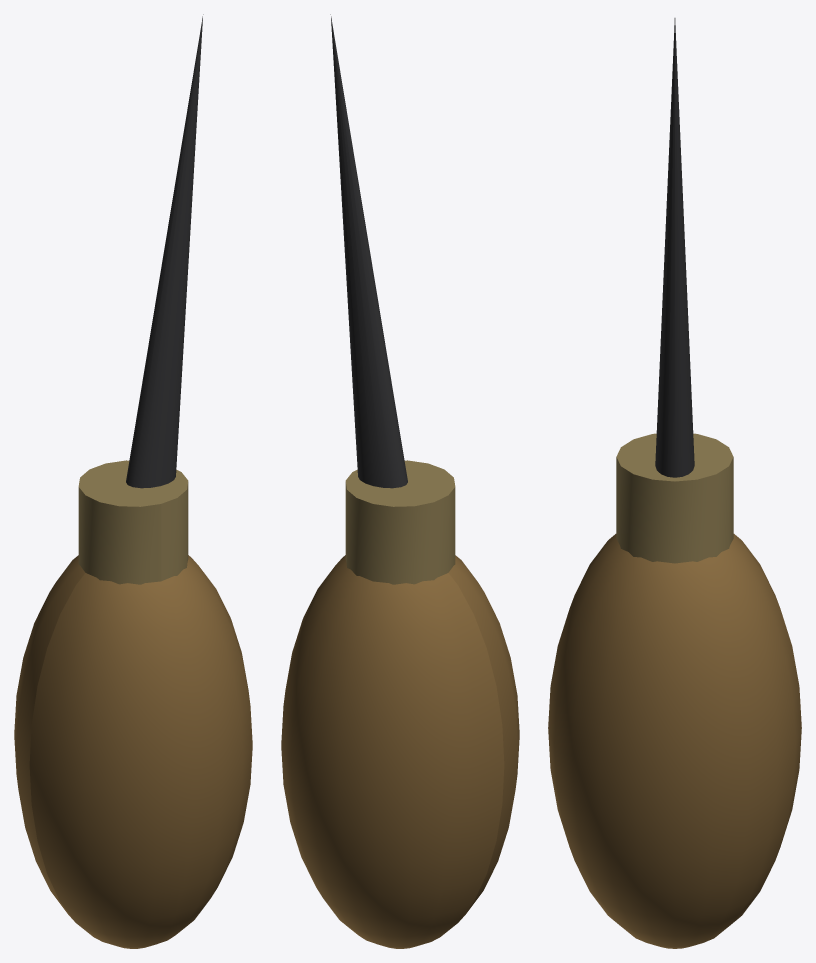
3 views of the same model, side by side, from view 1: azimuth 30°, elevation 25°; view 2: azimuth 150°, elevation 25°; view 3: azimuth 270°, elevation 25° (orthographic). The views are drawn at different scales.
Parts seen in each view (by area): view 1: OBJ-013 — DEMO NON_VALIDE; view 2: OBJ-013 — DEMO NON_VALIDE; view 3: OBJ-013 — DEMO NON_VALIDE.
Boxes of the visible parts, x1=… form: OBJ-013 — DEMO NON_VALIDE: x1=14, y1=14, x2=252, y2=948; OBJ-013 — DEMO NON_VALIDE: x1=281, y1=14, x2=519, y2=948; OBJ-013 — DEMO NON_VALIDE: x1=548, y1=18, x2=801, y2=948.
Size of the model in its own units: 0.4752 by 1.99 by 0.4752.
